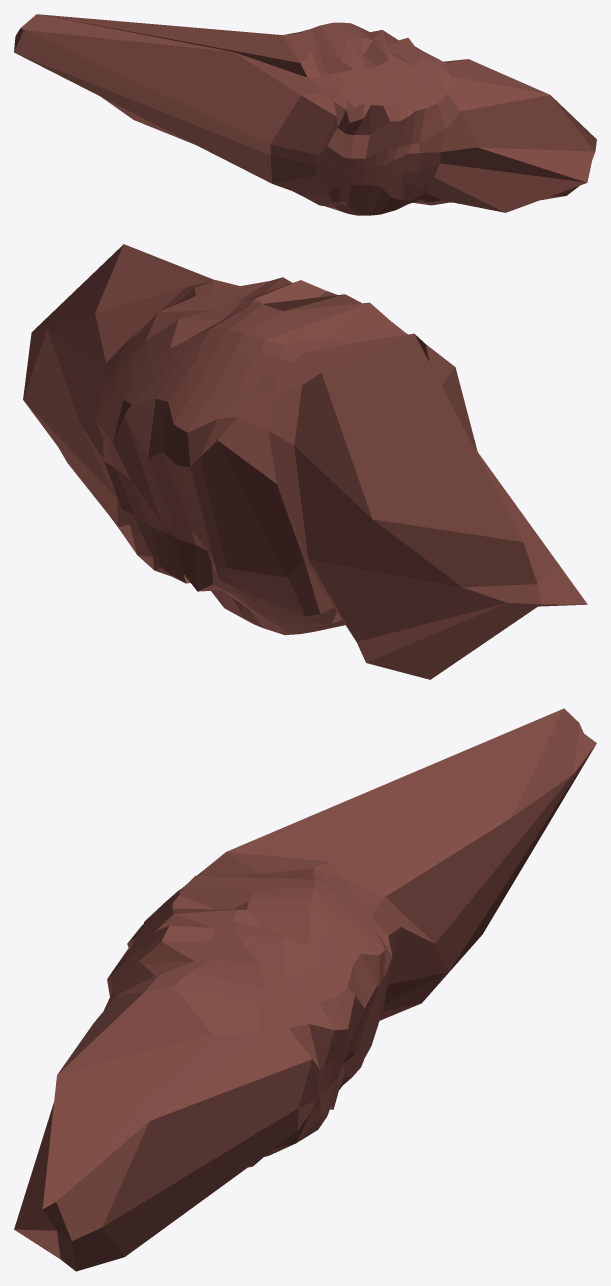
The model's file is asteroide.fbx.
The picture shows the model from 3 angles, top to bottom: view 1: azimuth 30°, elevation 25°; view 2: azimuth 150°, elevation 25°; view 3: azimuth 270°, elevation 25°; orthographic projection. The views are drawn at different scales.
Visible parts, largest first — view 1: Cube; view 2: Cube; view 3: Cube.
Part boxes in pixels (x1,y1,x2,y2): Cube: (14, 14, 596, 215); Cube: (23, 244, 587, 679); Cube: (14, 708, 596, 1271).
Size of the model in its own units: 2722 by 1053 by 1975.
